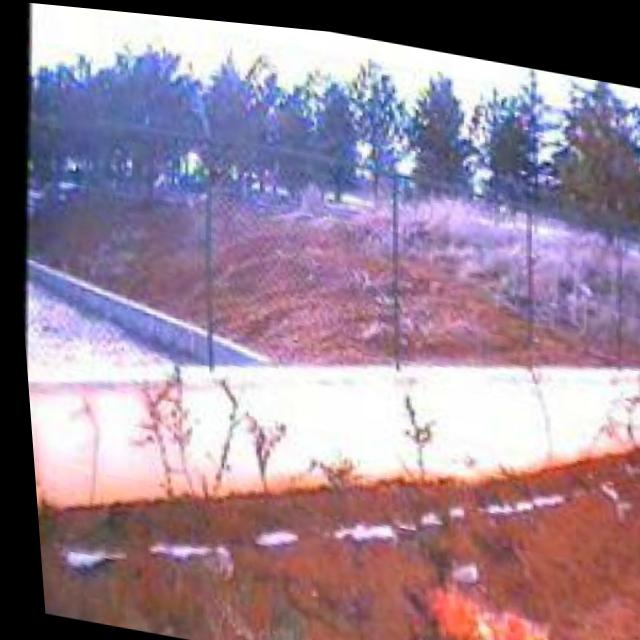Fire: (408, 570, 566, 640)
